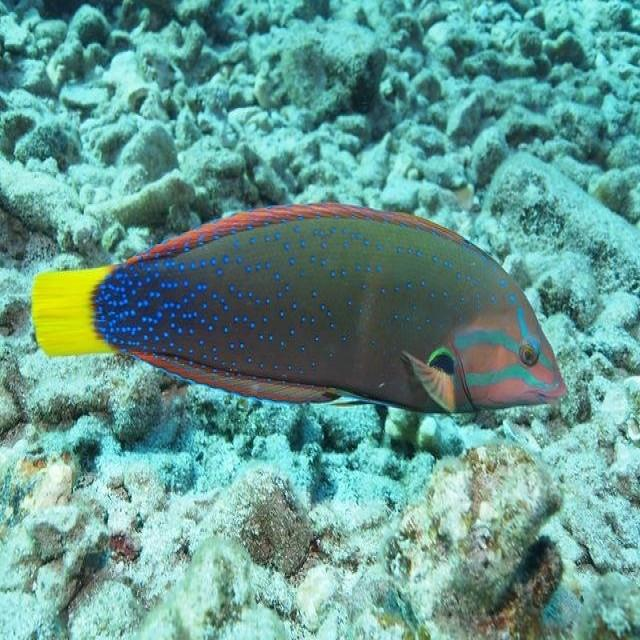fish: (31, 201, 568, 413)
